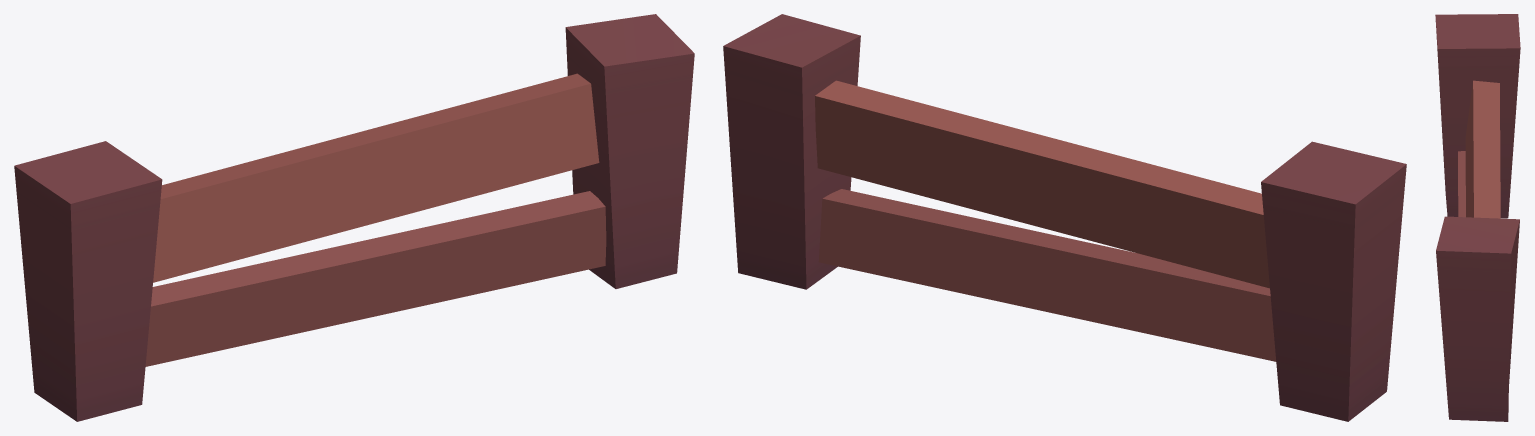
Rendered from cowstage.fbx.
3 views of the same model, side by side, from view 1: azimuth 30°, elevation 25°; view 2: azimuth 150°, elevation 25°; view 3: azimuth 270°, elevation 25° (orthographic). The views are drawn at different scales.
Parts seen in each view (by area): view 1: Fence; view 2: Fence; view 3: Fence.
Boxes of the visible parts, left/top/right/bottom form: Fence: left=14, top=14, right=694, bottom=421; Fence: left=723, top=14, right=1406, bottom=421; Fence: left=1435, top=14, right=1520, bottom=421.
Bounding box in the file's own units: 104 × 35.62 × 15.64.
Materials: 1 (1 with a texture image).
